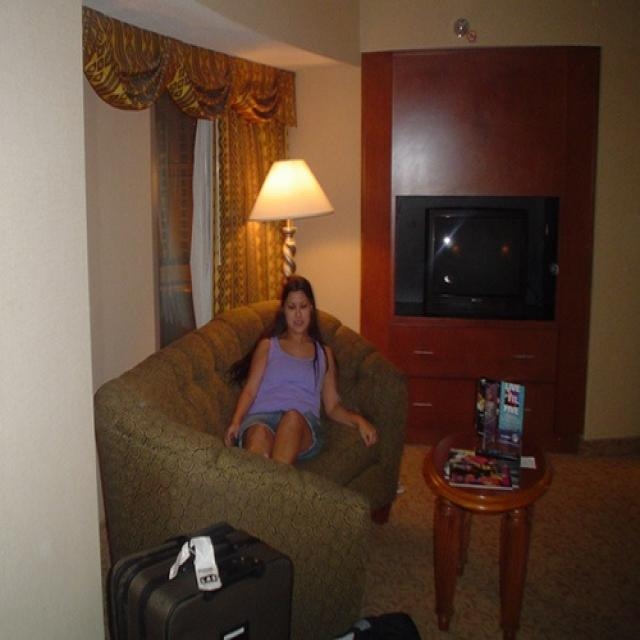sofa: (92, 289, 417, 634)
